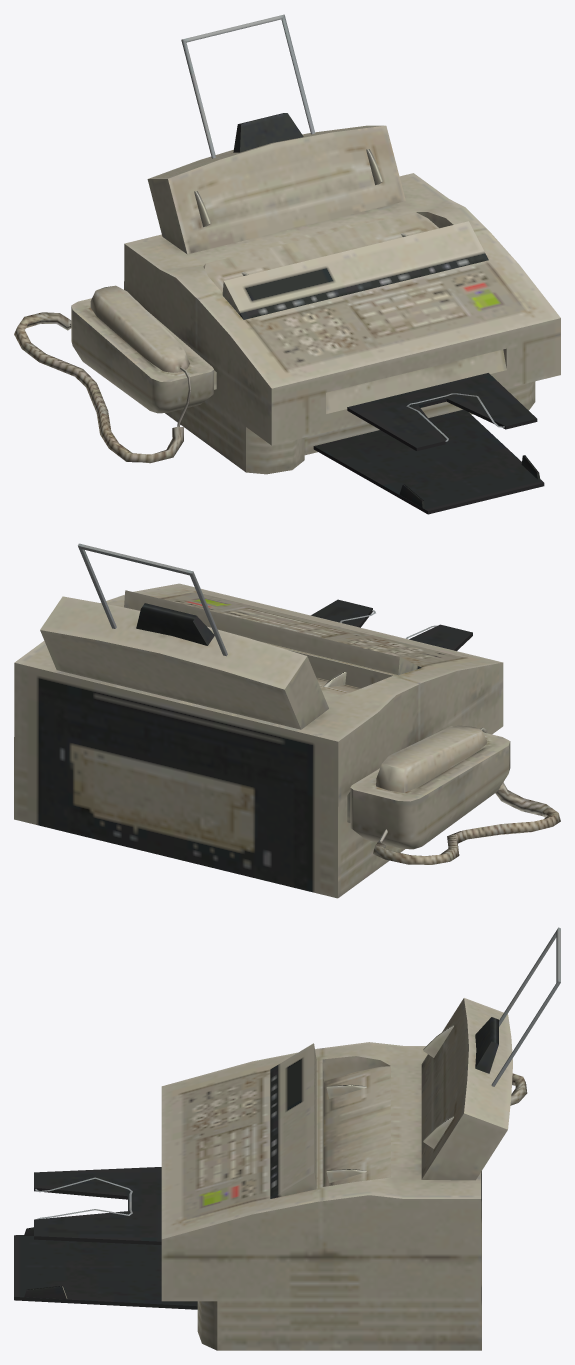
The model's file is 001_OfficeFax.fbx.
3 views of the same model, one above another, from view 1: azimuth 30°, elevation 25°; view 2: azimuth 150°, elevation 25°; view 3: azimuth 270°, elevation 25° (orthographic). The views are drawn at different scales.
Parts seen in each view (by area): view 1: LOD_1_Group_0_Sub_1__sm31_001_OfficeFAX01A_A_Mat, LOD_1_Group_3_Sub_1__sm31_001_OfficeFAX01A_A_Mat, LOD_1_Group_4_Sub_1__sm31_001_OfficeFAX01A_A_Mat, LOD_1_Group_1_Sub_1__sm31_001_OfficeFAX01A_A_Mat; view 2: LOD_1_Group_0_Sub_1__sm31_001_OfficeFAX01A_A_Mat, LOD_1_Group_4_Sub_1__sm31_001_OfficeFAX01A_A_Mat, LOD_1_Group_1_Sub_1__sm31_001_OfficeFAX01A_A_Mat; view 3: LOD_1_Group_0_Sub_1__sm31_001_OfficeFAX01A_A_Mat, LOD_1_Group_3_Sub_1__sm31_001_OfficeFAX01A_A_Mat, LOD_1_Group_1_Sub_1__sm31_001_OfficeFAX01A_A_Mat.
Boxes of the visible parts, bbox=[...] form: LOD_1_Group_0_Sub_1__sm31_001_OfficeFAX01A_A_Mat: bbox=[71, 14, 560, 474]; LOD_1_Group_3_Sub_1__sm31_001_OfficeFAX01A_A_Mat: bbox=[313, 409, 544, 514]; LOD_1_Group_4_Sub_1__sm31_001_OfficeFAX01A_A_Mat: bbox=[14, 285, 191, 463]; LOD_1_Group_1_Sub_1__sm31_001_OfficeFAX01A_A_Mat: bbox=[347, 373, 537, 450]; LOD_1_Group_0_Sub_1__sm31_001_OfficeFAX01A_A_Mat: bbox=[14, 543, 510, 898]; LOD_1_Group_4_Sub_1__sm31_001_OfficeFAX01A_A_Mat: bbox=[373, 725, 560, 864]; LOD_1_Group_1_Sub_1__sm31_001_OfficeFAX01A_A_Mat: bbox=[311, 599, 472, 650]; LOD_1_Group_0_Sub_1__sm31_001_OfficeFAX01A_A_Mat: bbox=[161, 927, 560, 1350]; LOD_1_Group_3_Sub_1__sm31_001_OfficeFAX01A_A_Mat: bbox=[14, 1227, 197, 1309]; LOD_1_Group_1_Sub_1__sm31_001_OfficeFAX01A_A_Mat: bbox=[34, 1167, 161, 1244].
Bounding box in the file's own units: 0.4629 × 0.3323 × 0.5148.
